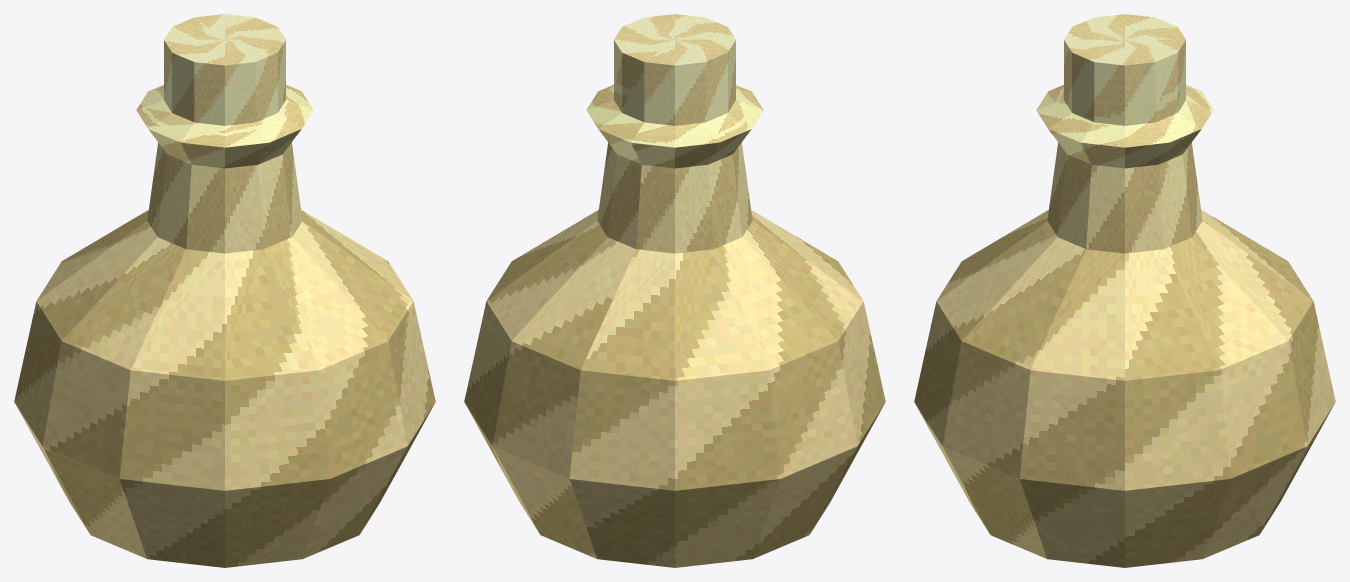
File: analgesico.glb
3 views of the same model, side by side, from view 1: azimuth 30°, elevation 25°; view 2: azimuth 150°, elevation 25°; view 3: azimuth 270°, elevation 25° (orthographic).
Parts seen in each view (by area): view 1: analgesico; view 2: analgesico; view 3: analgesico.
Boxes of the visible parts, x1=… form: analgesico: x1=14, y1=14, x2=435, y2=567; analgesico: x1=464, y1=14, x2=885, y2=567; analgesico: x1=914, y1=14, x2=1335, y2=567.
Bounding box in the file's own units: 0.1824 × 0.2304 × 0.1824.
1 material, 1 textured.
